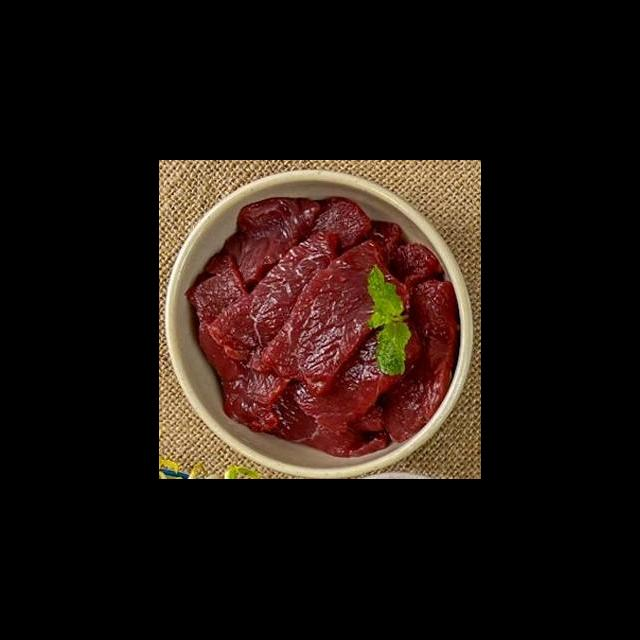thit bo: (201, 228, 344, 412), (256, 236, 414, 400), (178, 248, 288, 438), (375, 276, 464, 452), (202, 192, 321, 292), (292, 192, 378, 264), (384, 238, 451, 312)
